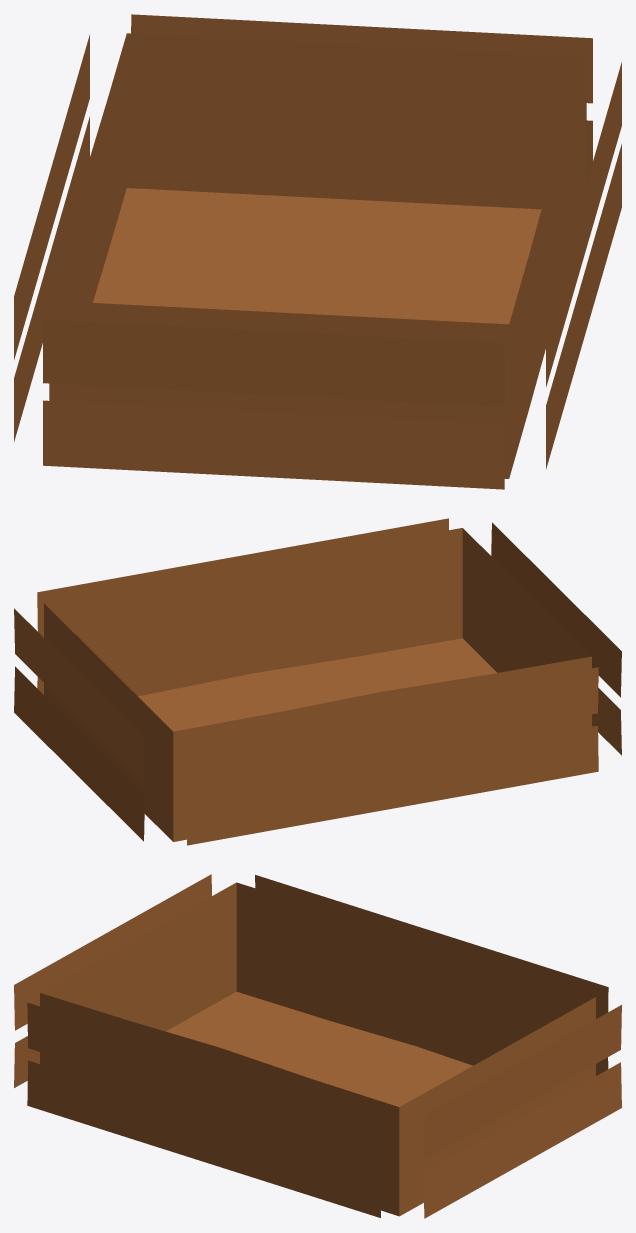
Rendered from n2_chest_bottom_light_brown_0_lev2.003.glb.
3 renders of one model, top to bottom at view 1: azimuth 30°, elevation 25°; view 2: azimuth 150°, elevation 25°; view 3: azimuth 270°, elevation 25°, orthographic. The views are drawn at different scales.
Parts seen in each view (by area): view 1: n2_chest_bottom_light_brown_0_lev2.003; view 2: n2_chest_bottom_light_brown_0_lev2.003; view 3: n2_chest_bottom_light_brown_0_lev2.003.
Boxes of the visible parts, x1,y1,x2,y2 form: n2_chest_bottom_light_brown_0_lev2.003: (14,14,621,489); n2_chest_bottom_light_brown_0_lev2.003: (14,518,621,845); n2_chest_bottom_light_brown_0_lev2.003: (14,874,621,1218).
Size of the model in its own units: 1.81 by 0.3906 by 1.93.
